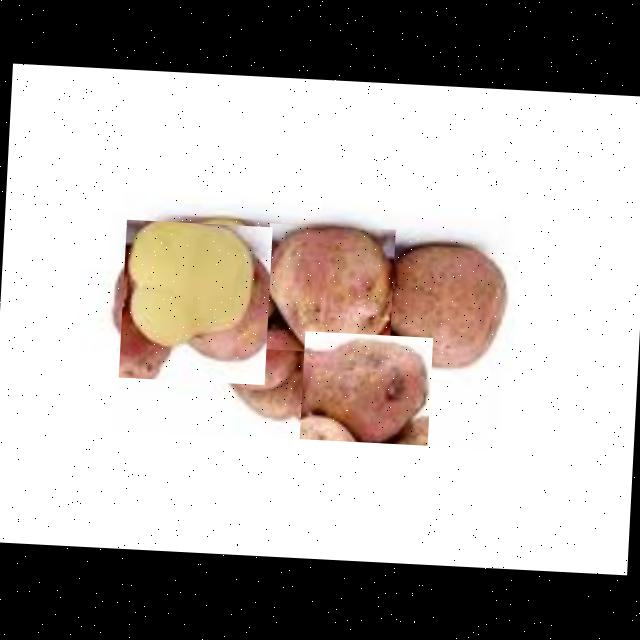Damaged potato: (119, 220, 272, 385), (264, 224, 396, 356), (300, 331, 433, 446)
